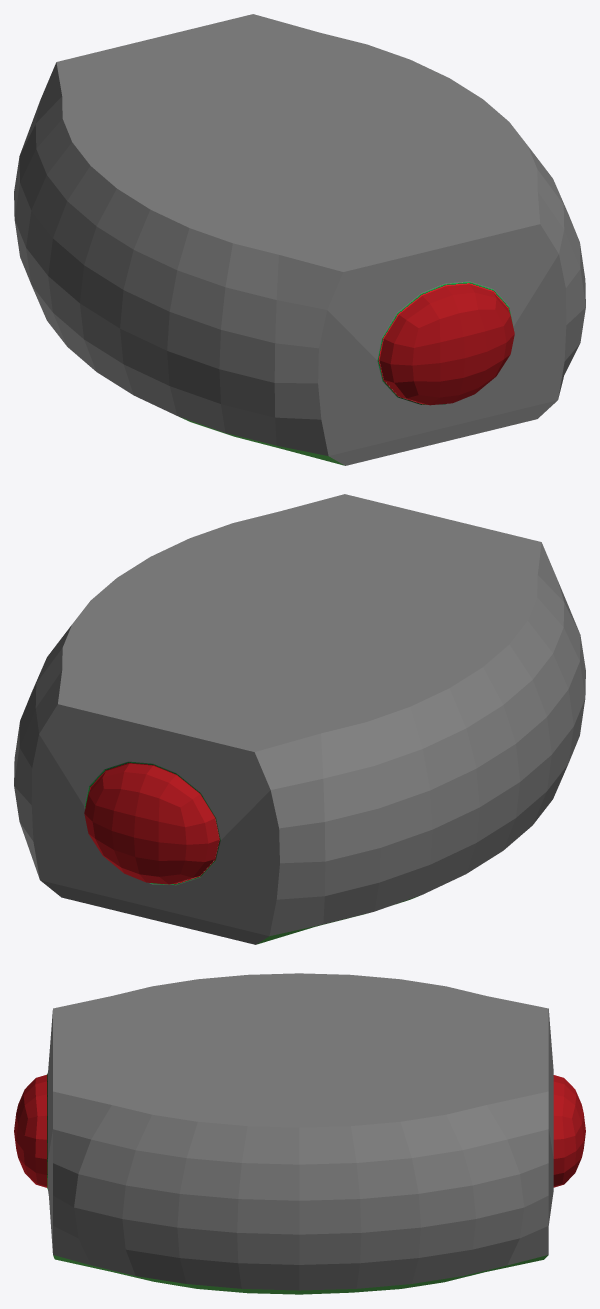
Rendered from Stage.fbx.
3 renders of one model, top to bottom at view 1: azimuth 30°, elevation 25°; view 2: azimuth 150°, elevation 25°; view 3: azimuth 270°, elevation 25°, orthographic. The views are drawn at different scales.
Parts seen in each view (by area): view 1: Stage, GoalA; view 2: Stage, GoalB; view 3: Stage, GoalA, GoalB.
Boxes of the visible parts, left/top/right/bottom form: Stage: left=14, top=14, right=585, bottom=465; GoalA: left=379, top=284, right=514, bottom=405; Stage: left=14, top=494, right=585, bottom=944; GoalB: left=84, top=763, right=219, bottom=884; Stage: left=47, top=973, right=553, bottom=1294; GoalA: left=14, top=1074, right=46, bottom=1187; GoalB: left=553, top=1075, right=585, bottom=1187.
Size of the model in its own units: 15870 by 6727 by 20672.
